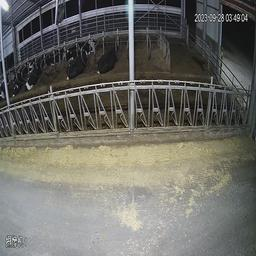cow: (95, 35, 122, 77), (66, 44, 90, 82), (22, 60, 42, 91), (46, 42, 63, 70), (11, 61, 23, 100)
